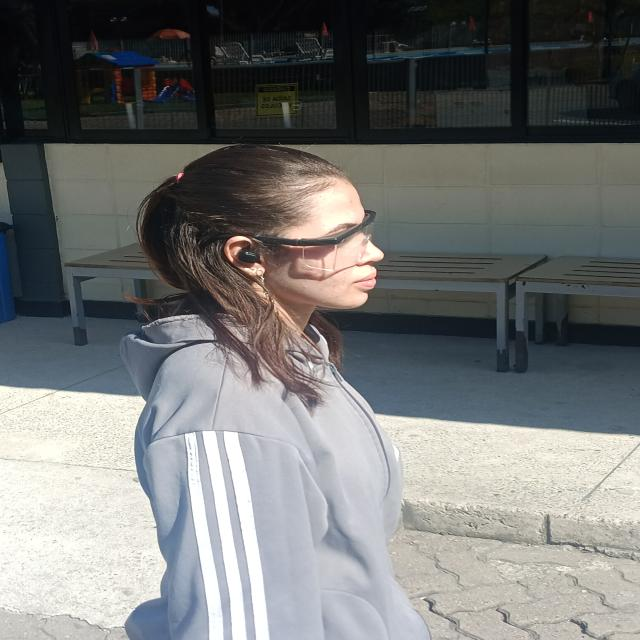oculos-epi: (253, 210, 376, 272)
